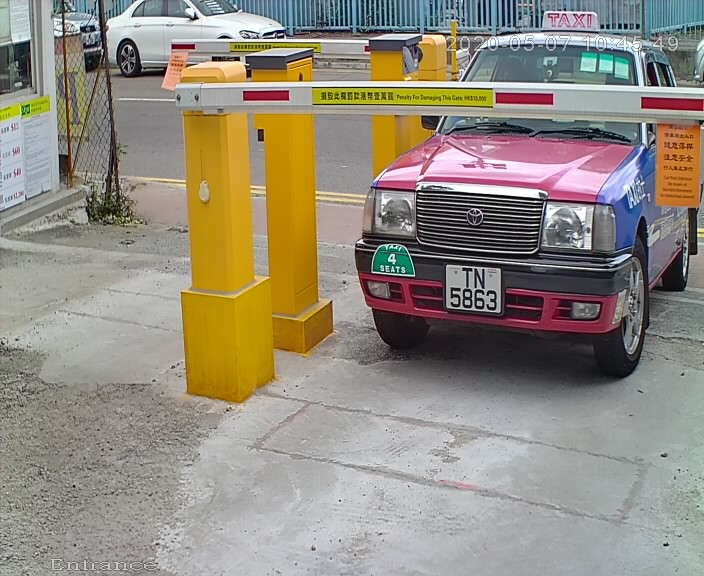taxi: (303, 2, 702, 376)
taxi_mark: (369, 235, 424, 286)
